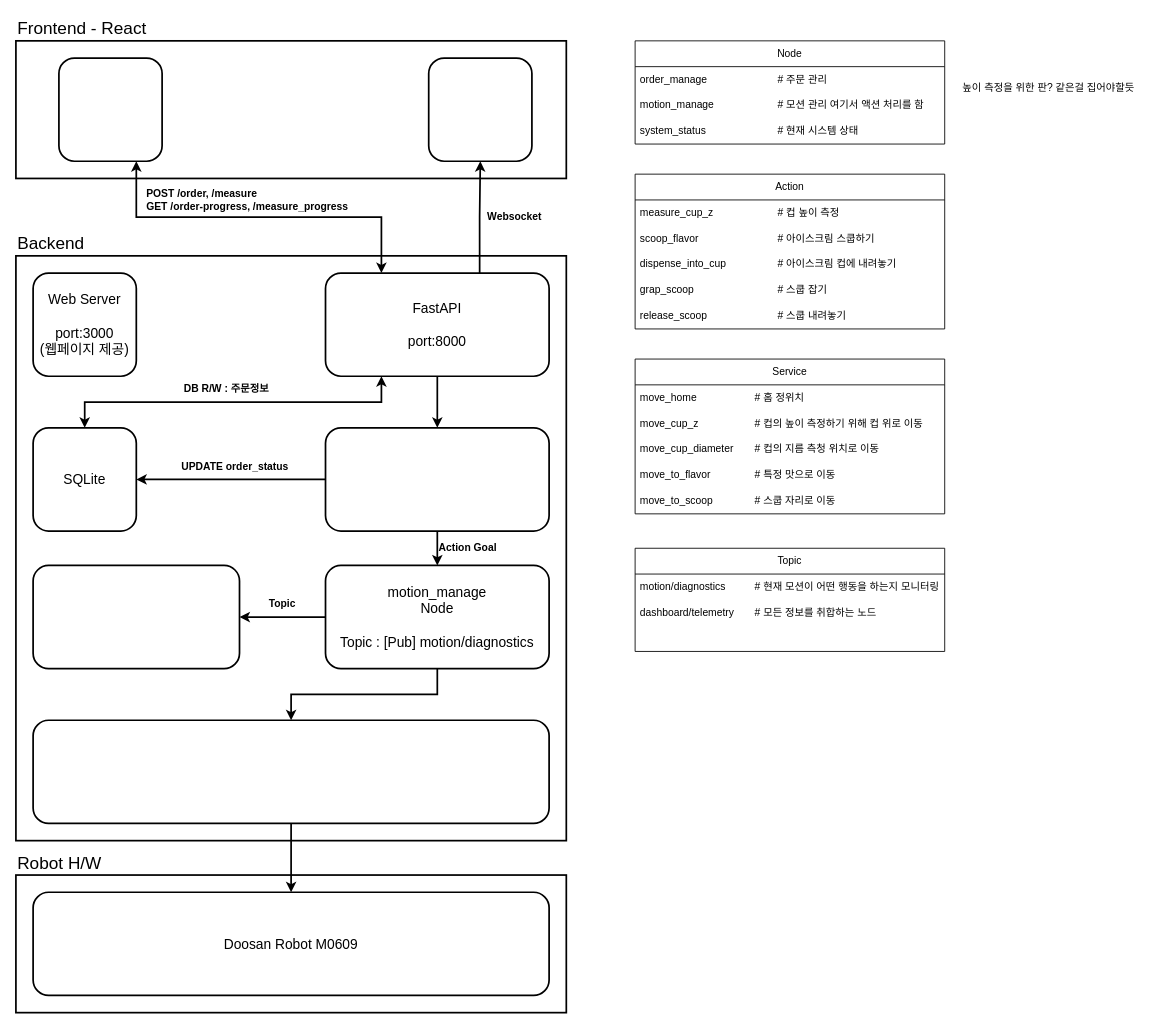
Image size: 1166x1028. Some labels were removed from this diagram. Each missing label, with the centre of its shape:
"DSR Node" belongs at (291,771).
"order_manage Node action" belongs at (437,479).
"system_status Node Topic [Pub] dashboard/telemetry [Sub] motion/diagnostics" belongs at (136,616).
"대시보드" belongs at (479,109).
"키오스크 주문" belongs at (110,109).
